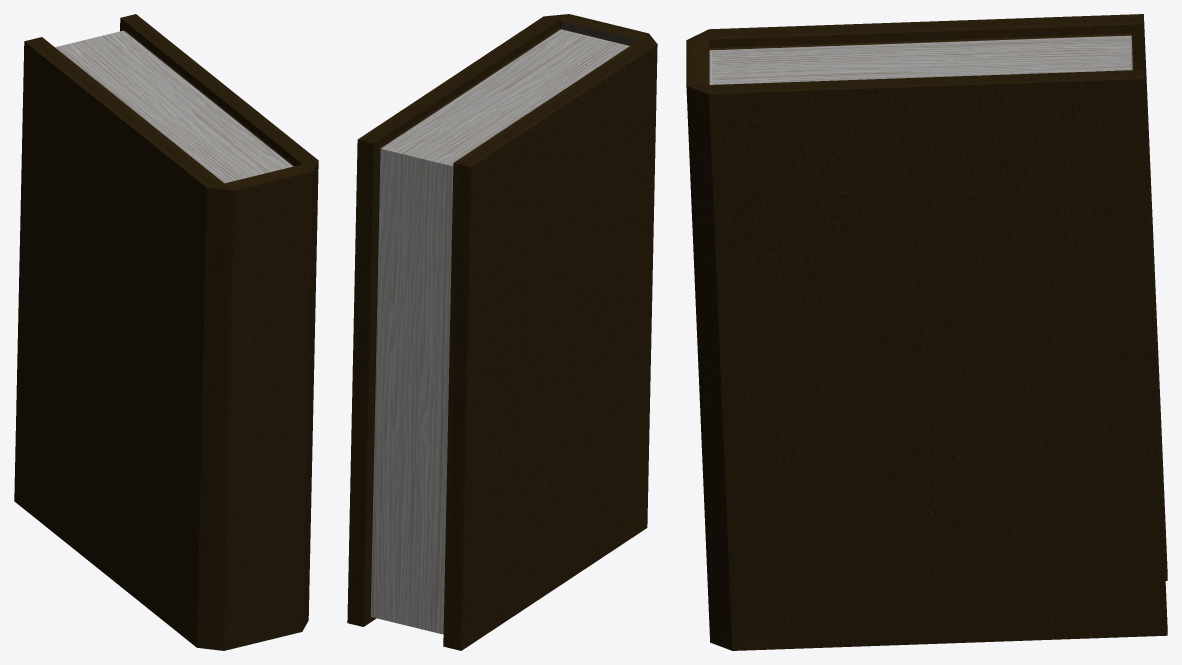
The model's file is bible.glb.
3 renders of one model, left to right at view 1: azimuth 30°, elevation 25°; view 2: azimuth 150°, elevation 25°; view 3: azimuth 270°, elevation 25°, orthographic. The views are drawn at different scales.
Parts seen in each view (by area): view 1: Bible_Bible; view 2: Bible_Bible; view 3: Bible_Bible.
Part boxes in pixels (x1,y1,x2,y2): Bible_Bible: (14, 14, 318, 650); Bible_Bible: (347, 14, 657, 650); Bible_Bible: (686, 14, 1167, 650).
Size of the model in its own units: 0.6 by 2.46 by 1.88.
1 material, 1 textured.
